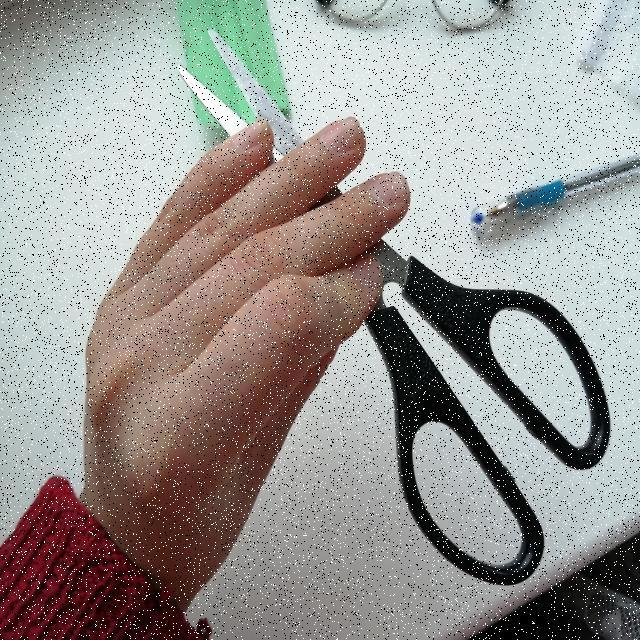scissors: (143, 6, 625, 616)
